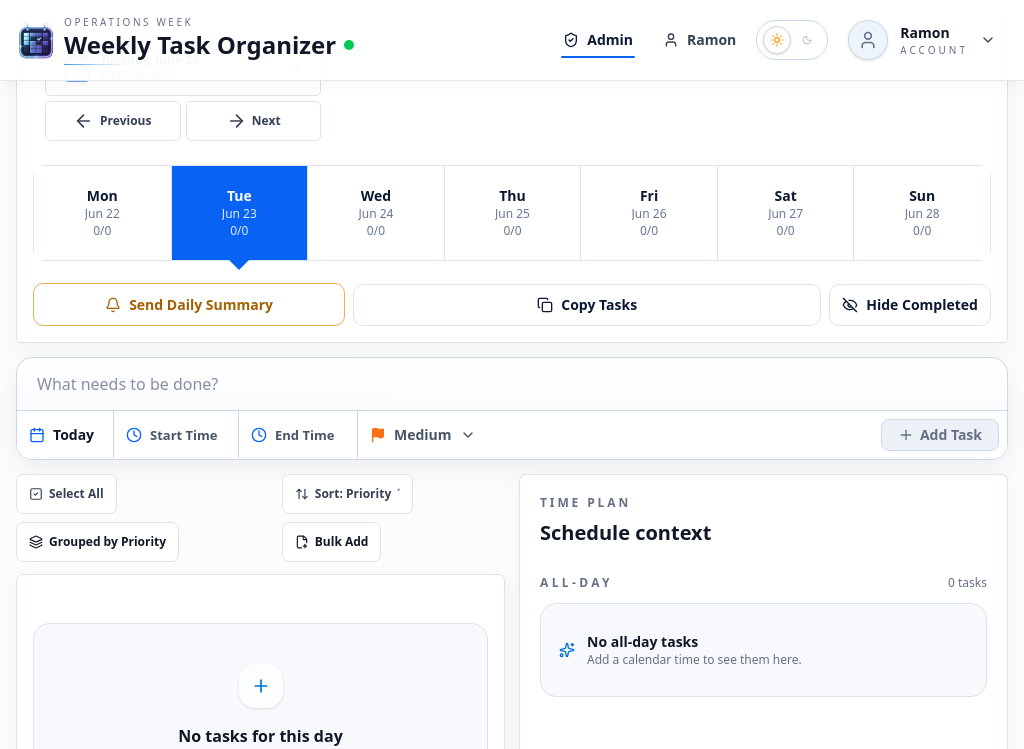
it: AdminView › blocks invalid time ranges before creating calendar events or tasks
(page scrolled)
Type "Broken schedule" into the field named "New task".
click(512, 384); type("Broken schedule")  # box [17,358,1007,410]
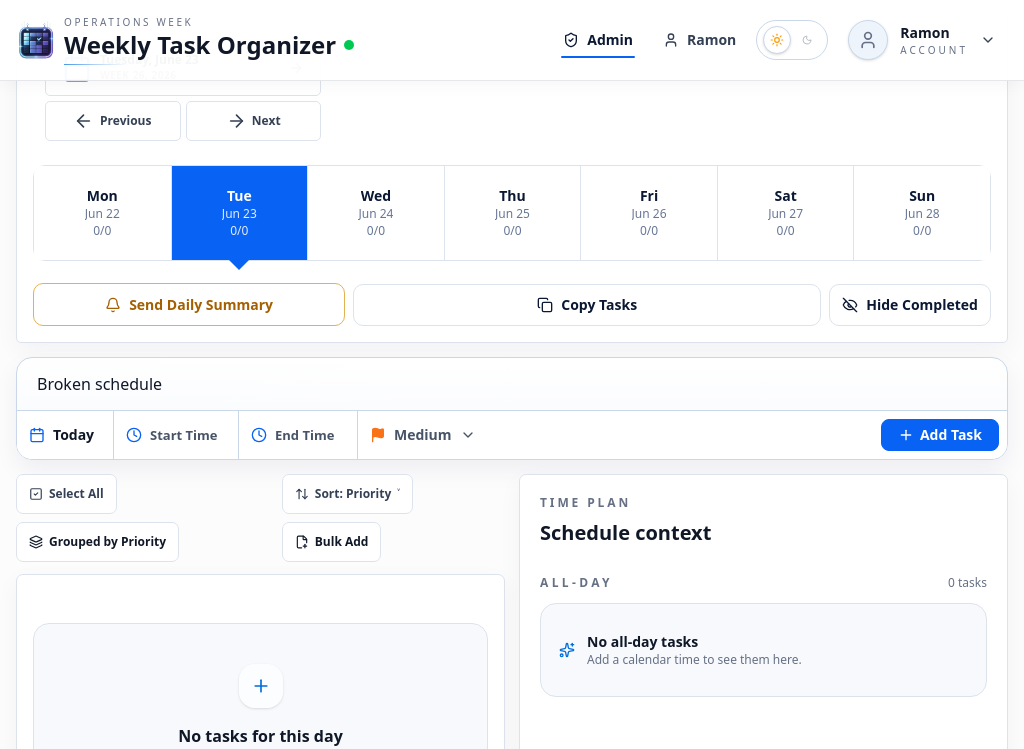
Replace the text in the time field labelled "Start Time" with "11:00" at [176, 435], box [113,411,238,459]
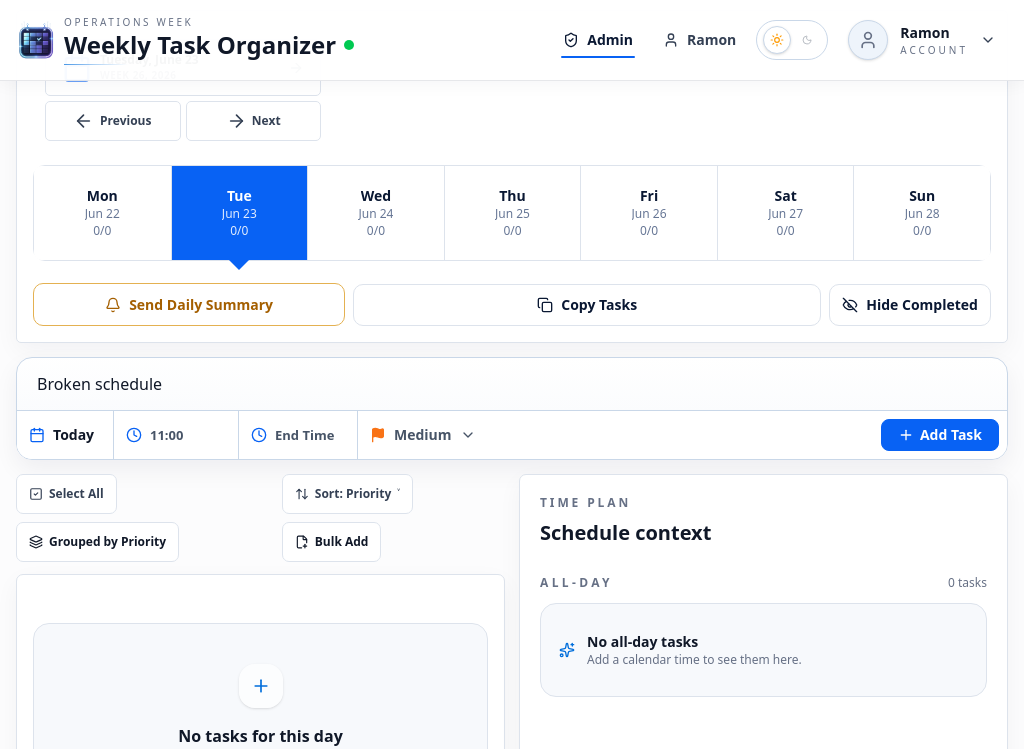
Replace the text in the time field labelled "End Time" with "10:30" at [298, 435], box [238,411,357,459]
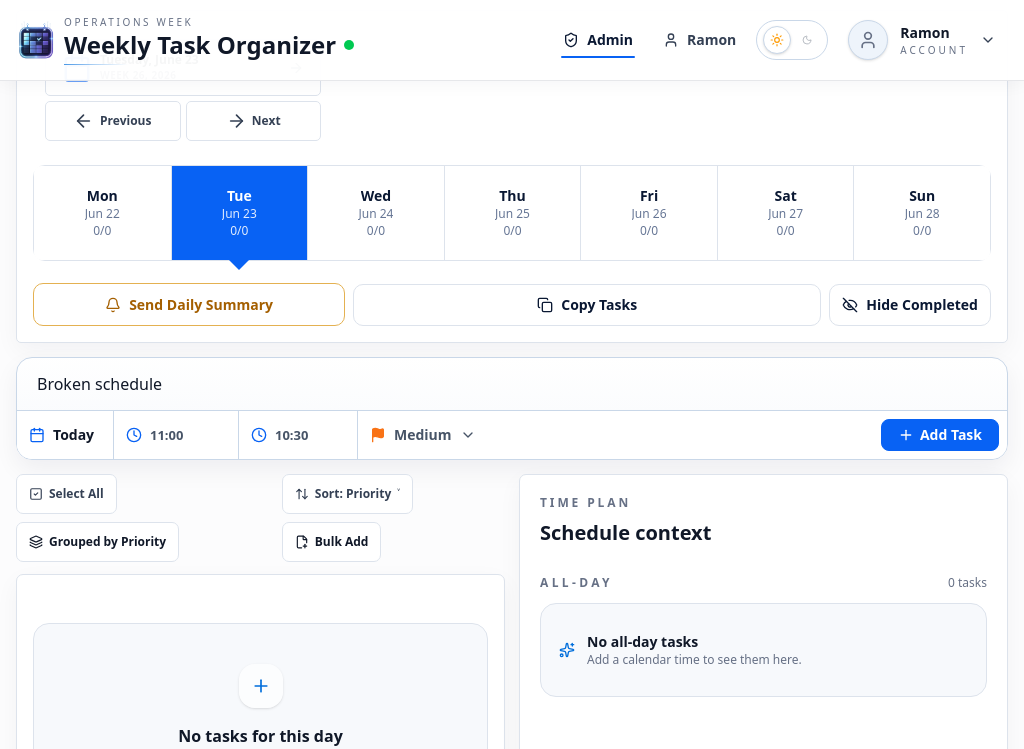
Click the button "Add Task".
click(940, 435)  # box [881,419,999,451]
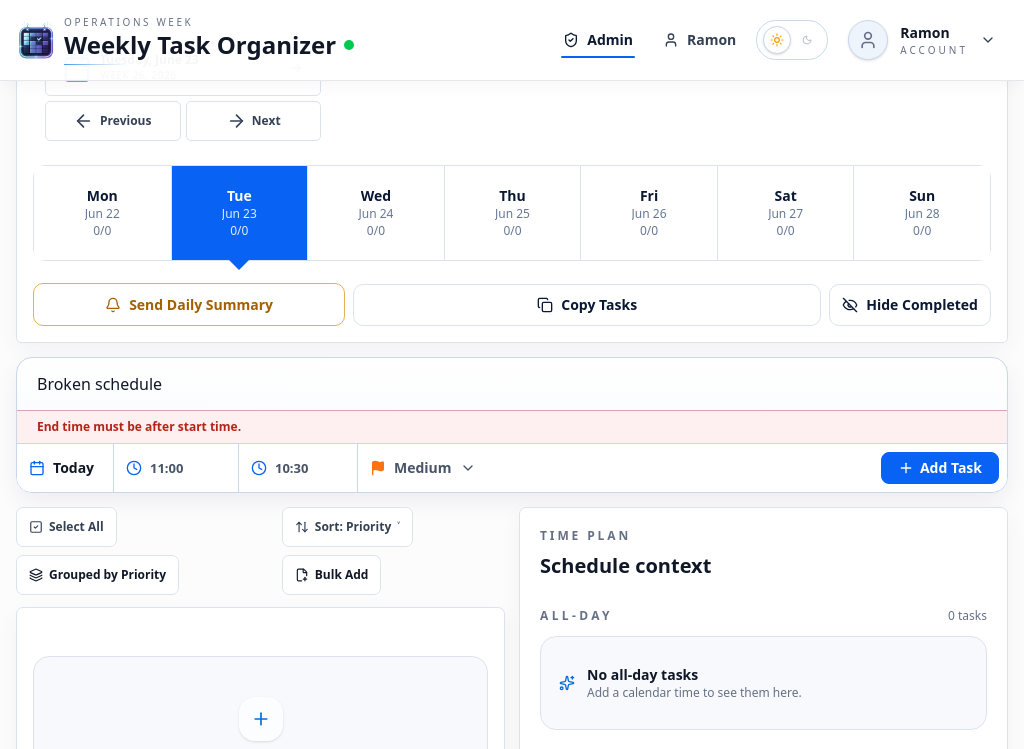
Expected: the message "End time must be after start time." is shown, [17,410,1007,443]
